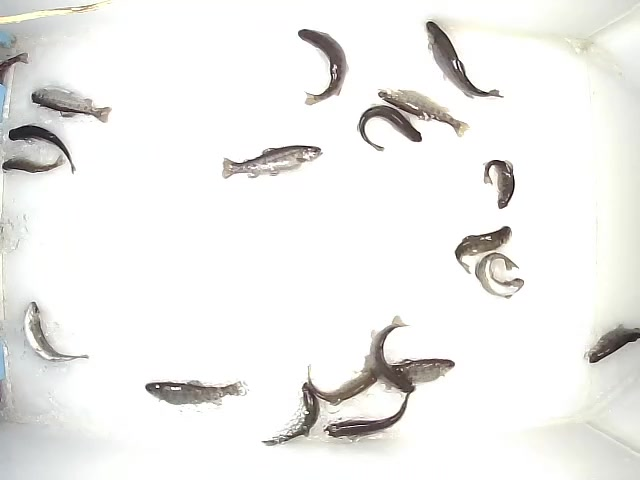fish: (423, 17, 505, 98), (375, 85, 471, 138), (320, 387, 413, 441), (22, 300, 91, 364), (296, 25, 348, 108), (303, 356, 390, 405), (258, 380, 320, 447), (221, 144, 322, 185), (3, 124, 78, 176), (370, 314, 416, 394), (30, 83, 112, 124), (355, 103, 422, 152), (361, 356, 455, 387), (452, 227, 512, 274), (142, 379, 248, 405), (473, 251, 525, 300), (482, 158, 518, 209), (1, 151, 65, 175)
